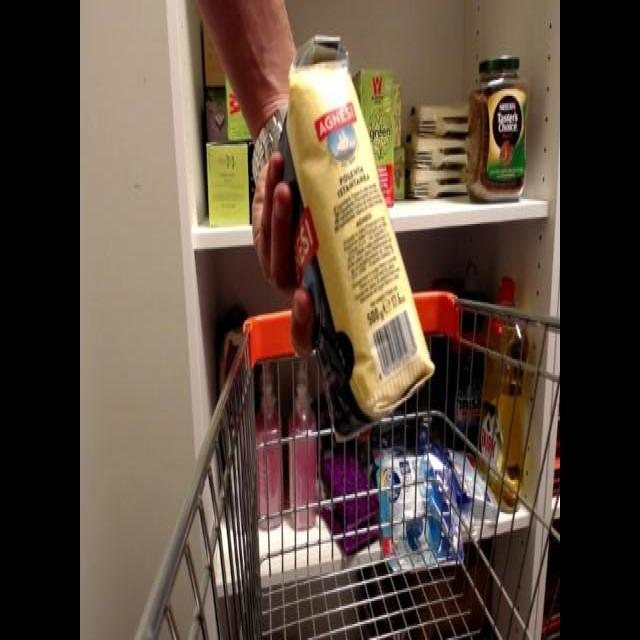Agnesi Polenta: (268, 39, 440, 445)
